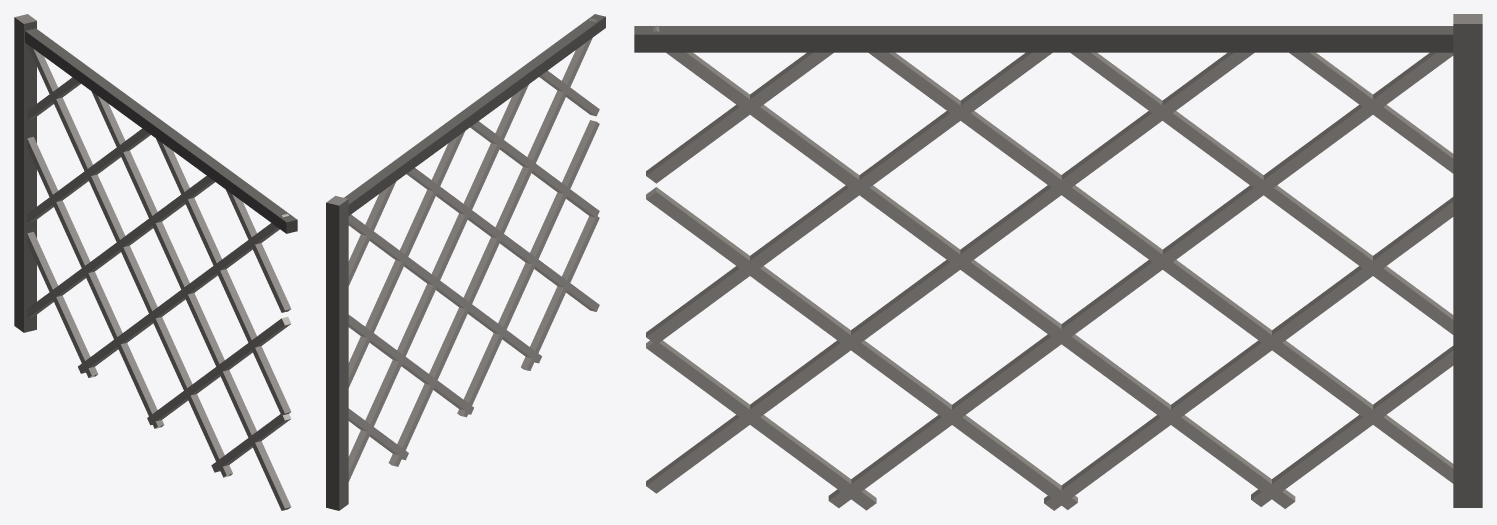
File: Fence_Wire_Full_01.fbx
The picture shows the model from 3 angles, left to right: view 1: azimuth 30°, elevation 25°; view 2: azimuth 150°, elevation 25°; view 3: azimuth 270°, elevation 25°; orthographic projection. The views are drawn at different scales.
Parts seen in each view (by area): view 1: Fence_Wire_Full_01; view 2: Fence_Wire_Full_01; view 3: Fence_Wire_Full_01.
Part boxes in pixels (box(x1,y1,x2,y2)): Fence_Wire_Full_01: box(14, 14, 297, 510); Fence_Wire_Full_01: box(326, 14, 605, 510); Fence_Wire_Full_01: box(634, 14, 1482, 510).
Size of the model in its own units: 0.1383 by 4.9 by 3.12.
